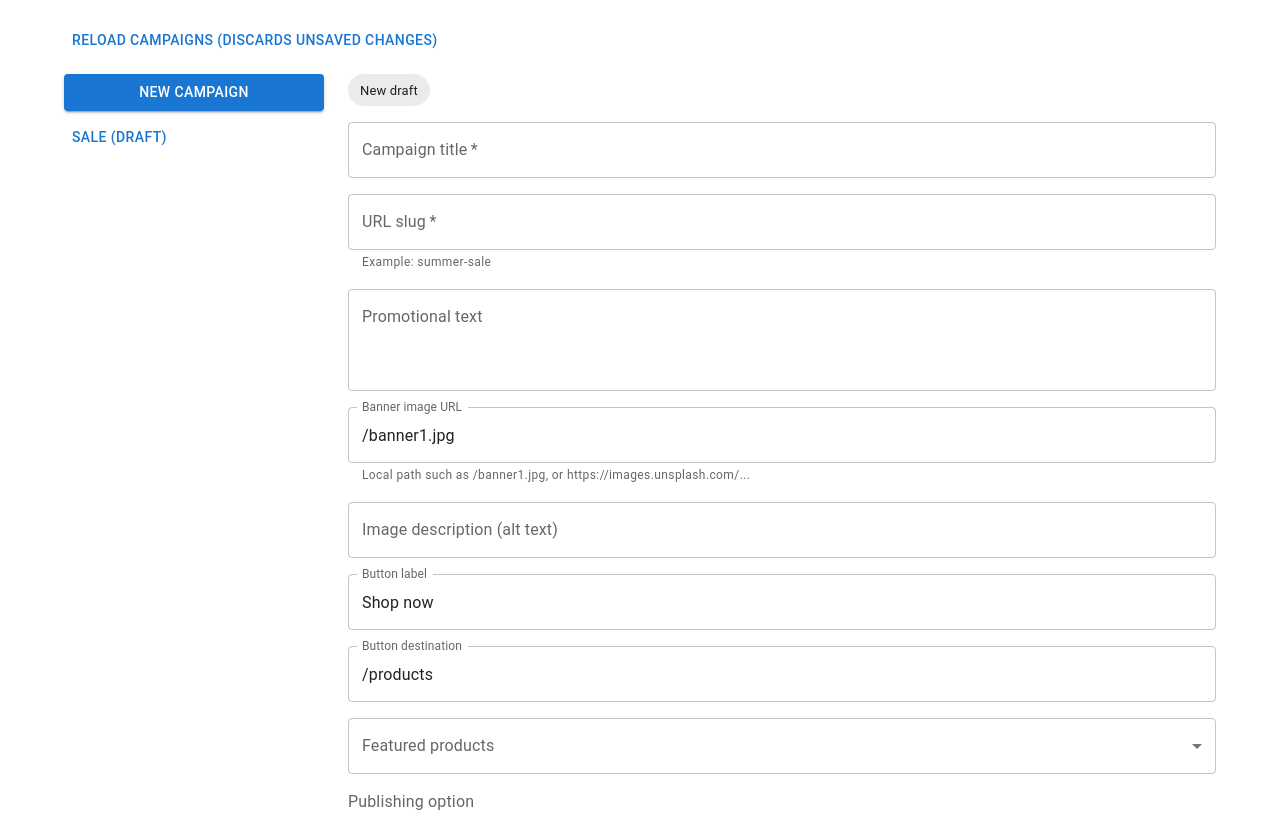
Test: publishes the latest form changes when editing an existing campaign
The image size is (1280, 820).
Click the button "Sale (draft)": (89, 137) 64,119 -> 324,155
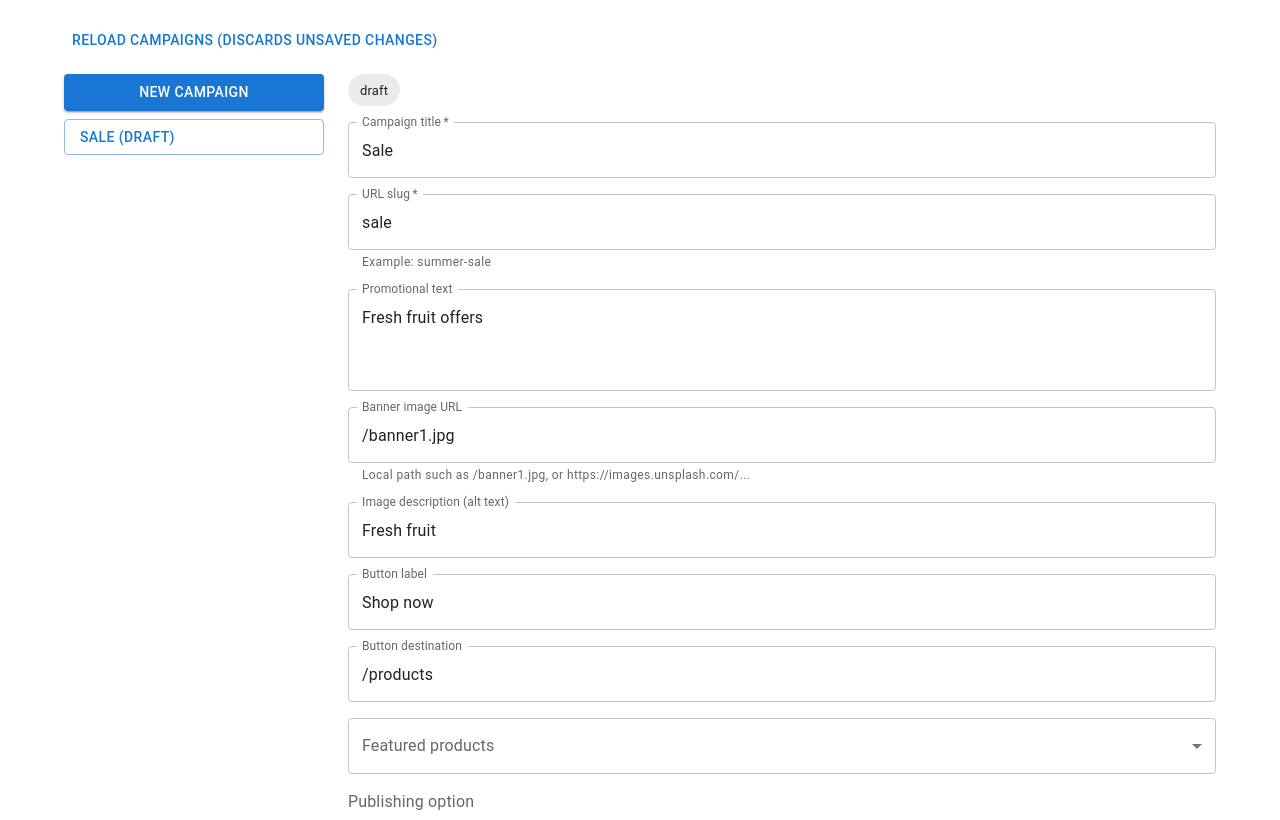
Replace the text in the field labelled "Campaign title *" with "New offer": (782, 150) 348,122 -> 1216,178
(page scrolled)
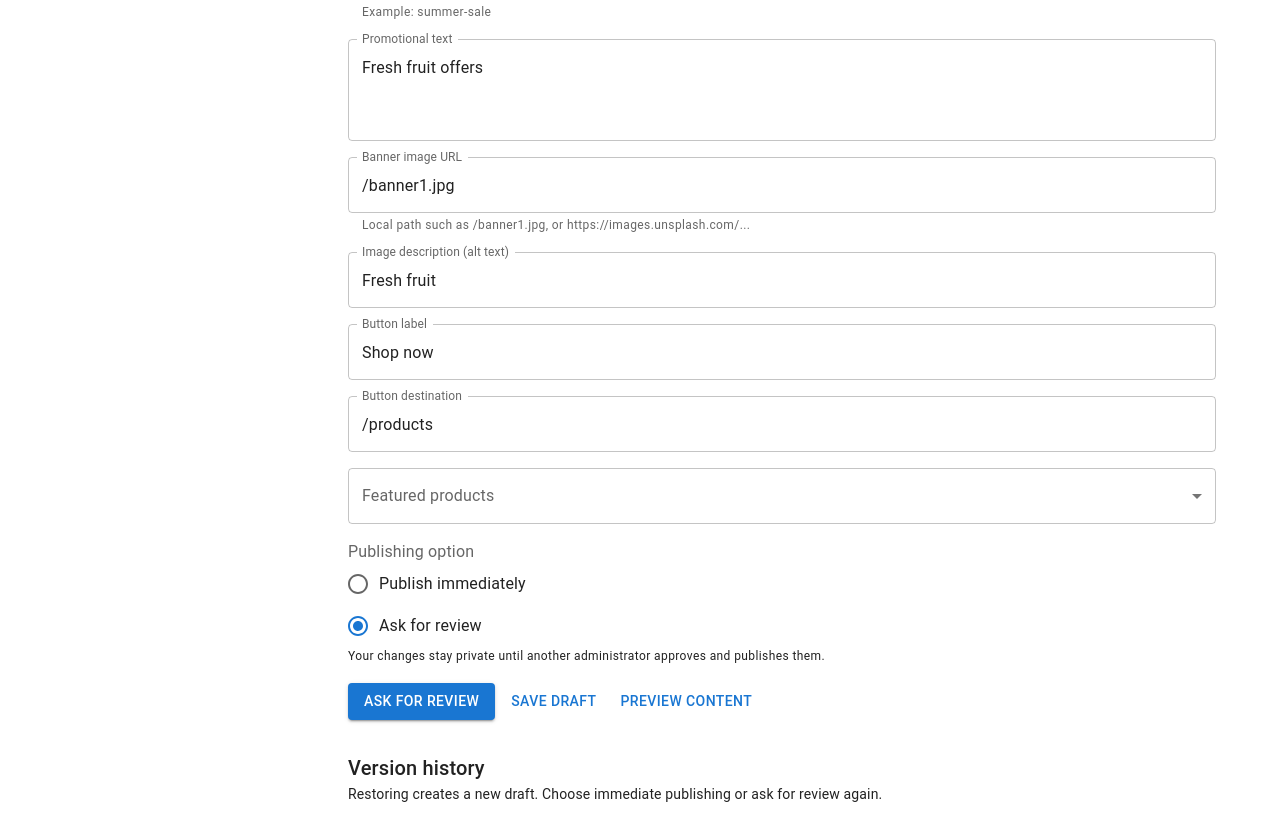
Click the radio button labelled "Publish immediately": (436, 584) 346,572 -> 526,596
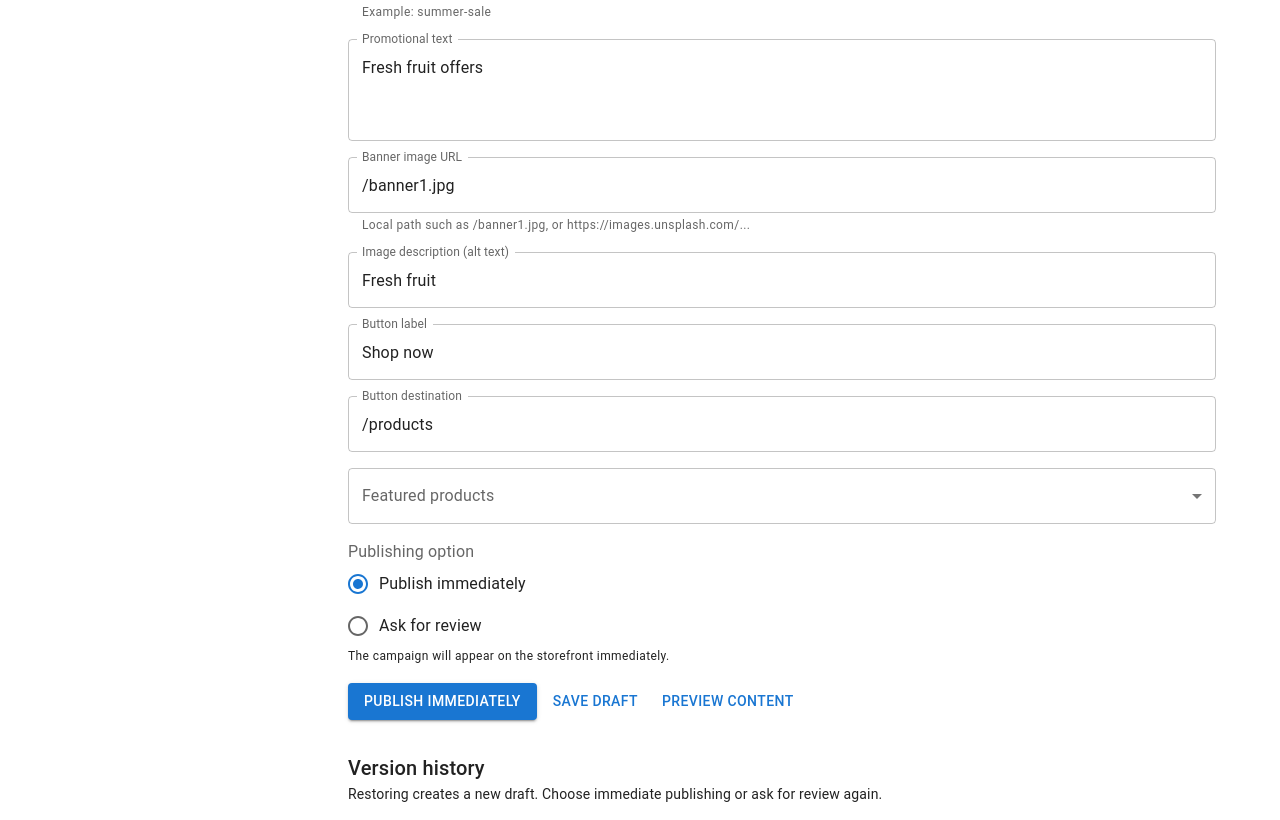
Click the button "Publish immediately": (442, 701) 348,683 -> 537,720
(page scrolled)
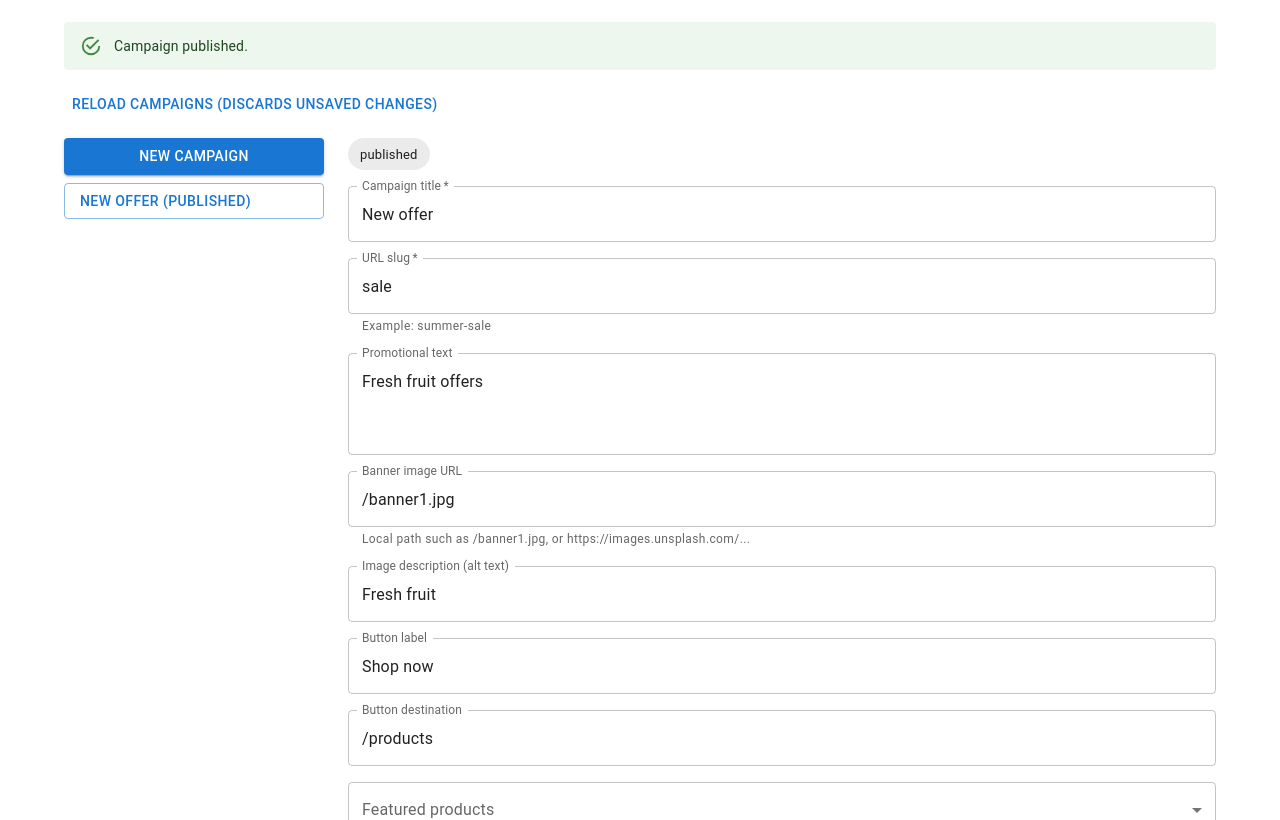
Expected: the text "Campaign published." is shown, 114,38 -> 248,54
